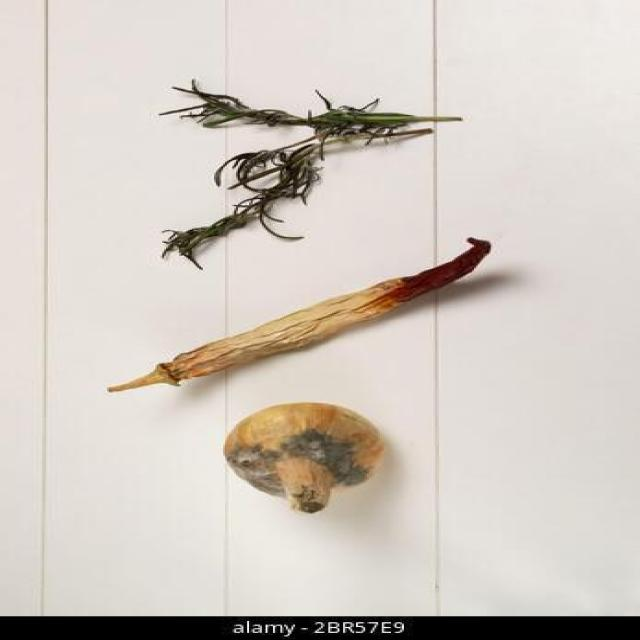Onion: (227, 400, 395, 514)
